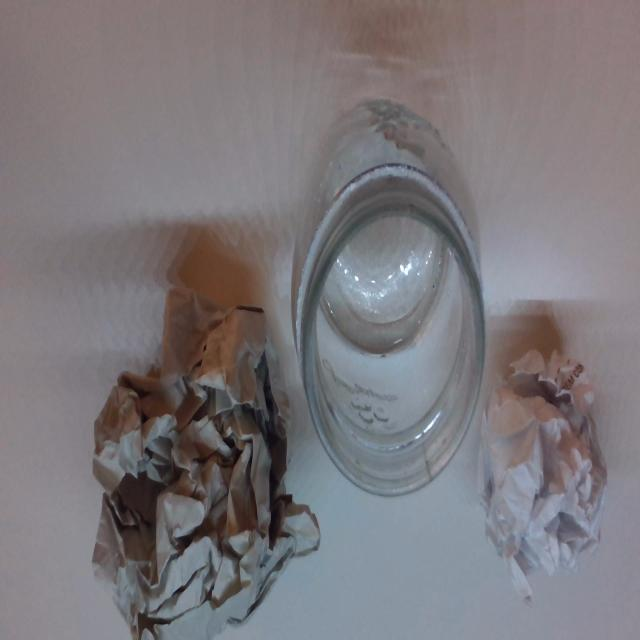Glass: (290, 95, 487, 499)
Paper: (92, 242, 325, 639), (484, 336, 609, 605)
